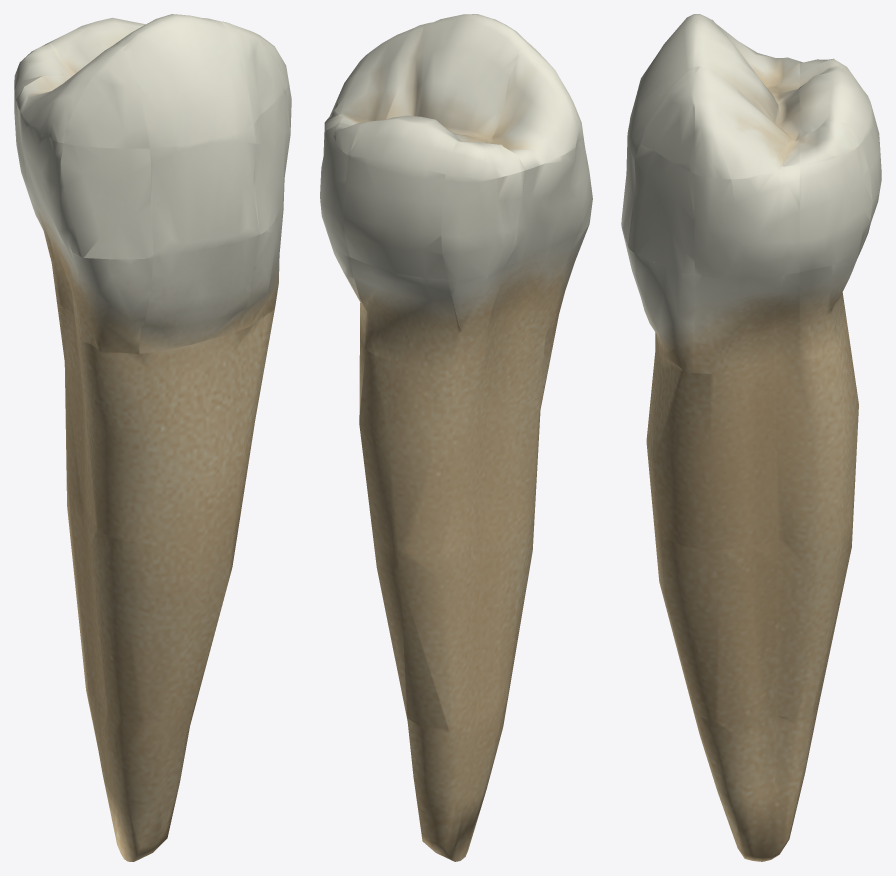
File: Left_Lower_First_Premolar.glb
3 views of the same model, side by side, from view 1: azimuth 30°, elevation 25°; view 2: azimuth 150°, elevation 25°; view 3: azimuth 270°, elevation 25° (orthographic). The views are drawn at different scales.
Parts seen in each view (by area): view 1: Human_Teeth_Lower_First_Premolar; view 2: Human_Teeth_Lower_First_Premolar; view 3: Human_Teeth_Lower_First_Premolar.
Boxes of the visible parts, bbox=[...] form: Human_Teeth_Lower_First_Premolar: bbox=[14, 14, 291, 861]; Human_Teeth_Lower_First_Premolar: bbox=[320, 14, 592, 861]; Human_Teeth_Lower_First_Premolar: bbox=[621, 14, 881, 861].
Bounding box in the file's own units: 0.961 × 3.22 × 0.9045.
Materials: 30 (30 with a texture image).
